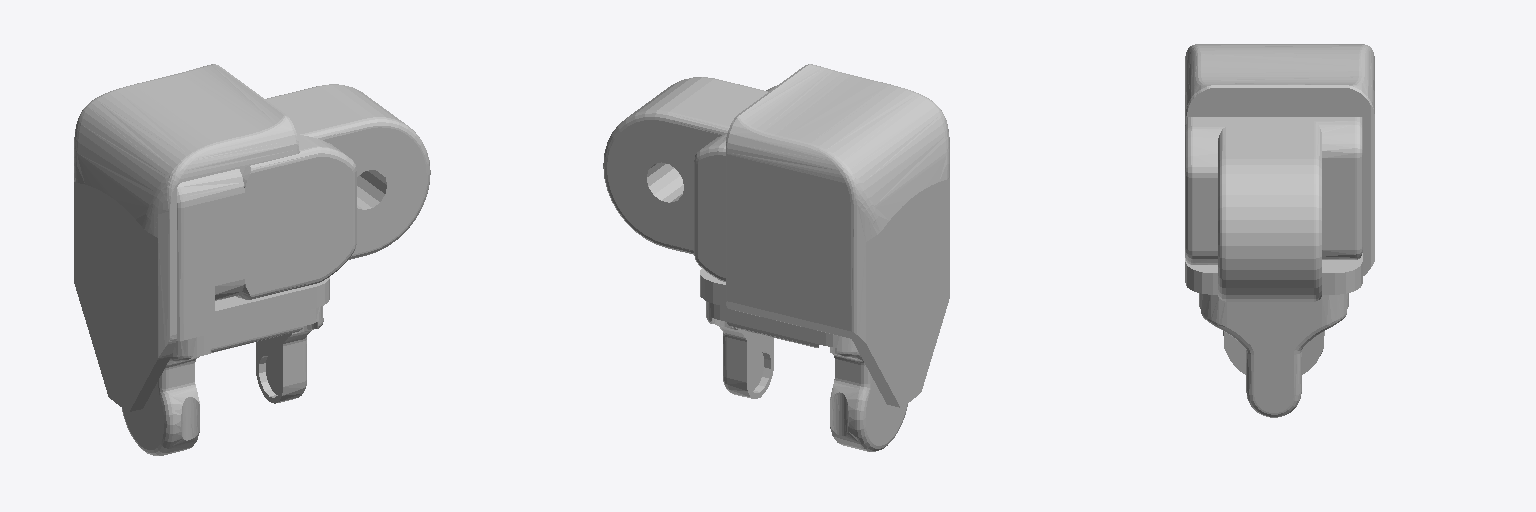
File: tesollo_right_rl_dg_2_1_visuals_rl_dg_2_1_mesh.obj
The picture shows the model from 3 angles: view 1: azimuth 30°, elevation 25°; view 2: azimuth 150°, elevation 25°; view 3: azimuth 270°, elevation 25°; orthographic projection.
Bounding box in the file's own units: 0.0427 × 0.0467 × 0.0239.